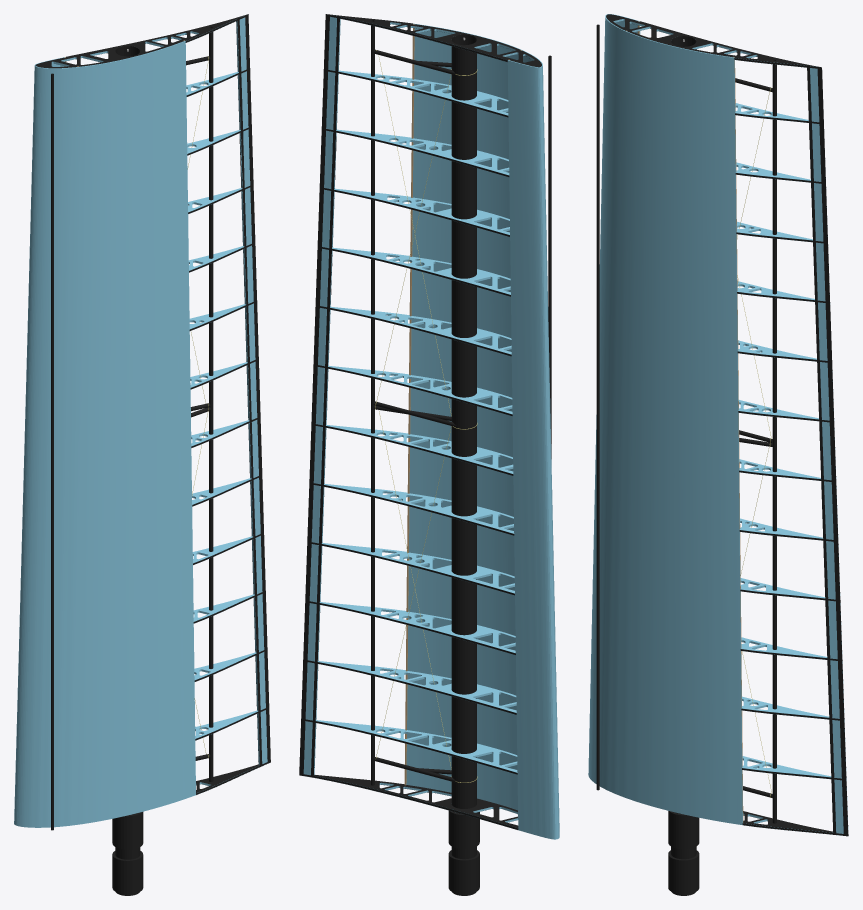
Rendered from 27_tespi.glb.
The picture shows the model from 3 angles, left to right: view 1: azimuth 30°, elevation 25°; view 2: azimuth 150°, elevation 25°; view 3: azimuth 330°, elevation 25°; orthographic projection.
Visible parts, largest first — view 1: Plank_Skin, TE_Skin, Ribs, Rear_Spar, TE_Cap_1, Front_Spar, Rib_Cap, TE_Cap_0, CarbonRibs, JointSleeve_Skin_0, JointSleeve_Skin_1, Main_Spar; view 2: Plank_Skin, Ribs, Main_Spar, TE_Skin, Rib_Cap, TE_Cap_3, CarbonRibs, Rear_Spar, TE_Cap_2, Stringer_1, Front_Spar, JointSleeve_Skin_0 (+1 smaller); view 3: Plank_Skin, Ribs, TE_Skin, TE_Cap_1, Rear_Spar, Rib_Cap, Front_Spar, TE_Cap_0, CarbonRibs, JointSleeve_Skin_0, JointSleeve_Skin_1, Stringer_1 (+1 smaller).
Boxes of the visible parts, x1,y1,x2,y2 form: Plank_Skin: [14, 41, 195, 827]; TE_Skin: [236, 16, 267, 764]; Ribs: [51, 19, 258, 792]; Rear_Spar: [209, 27, 213, 781]; TE_Cap_1: [245, 14, 270, 763]; Front_Spar: [51, 73, 53, 830]; Rib_Cap: [185, 16, 267, 794]; TE_Cap_0: [237, 18, 262, 764]; CarbonRibs: [35, 14, 266, 792]; JointSleeve_Skin_0: [112, 851, 143, 894]; JointSleeve_Skin_1: [112, 812, 143, 849]; Main_Spar: [115, 46, 140, 895]; Plank_Skin: [406, 23, 559, 839]; Ribs: [314, 17, 534, 828]; Main_Spar: [451, 34, 476, 895]; TE_Skin: [303, 15, 340, 776]; Rib_Cap: [303, 15, 518, 829]; TE_Cap_3: [299, 14, 329, 775]; CarbonRibs: [314, 14, 541, 827]; Rear_Spar: [371, 20, 374, 785]; TE_Cap_2: [311, 16, 339, 777]; Stringer_1: [404, 24, 414, 785]; Front_Spar: [548, 55, 551, 458]; JointSleeve_Skin_0: [448, 850, 479, 894]; Plank_Skin: [588, 14, 742, 824]; Ribs: [613, 19, 834, 834]; TE_Skin: [810, 66, 848, 835]; TE_Cap_1: [817, 67, 848, 836]; Rear_Spar: [772, 59, 776, 823]; Rib_Cap: [734, 58, 848, 835]; Front_Spar: [596, 24, 599, 790]; TE_Cap_0: [807, 65, 836, 834]; CarbonRibs: [606, 14, 843, 835]; JointSleeve_Skin_0: [668, 851, 699, 894]; JointSleeve_Skin_1: [668, 811, 699, 849]; Stringer_1: [733, 57, 743, 822].
Bounding box in the file's own units: 0.9599 × 3.01 × 0.1381.
